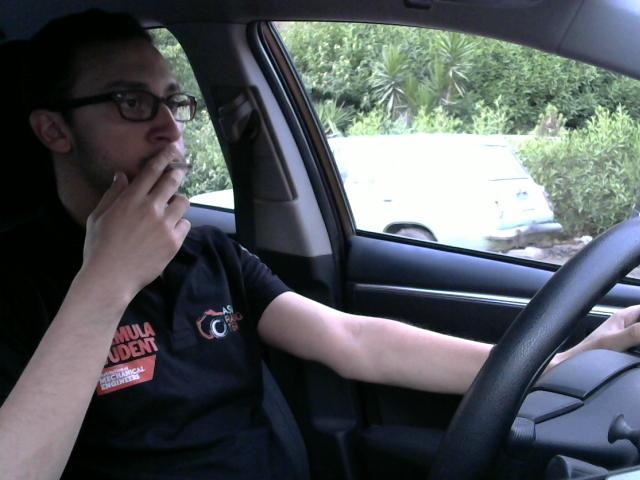Smoking: (148, 151, 202, 183)
